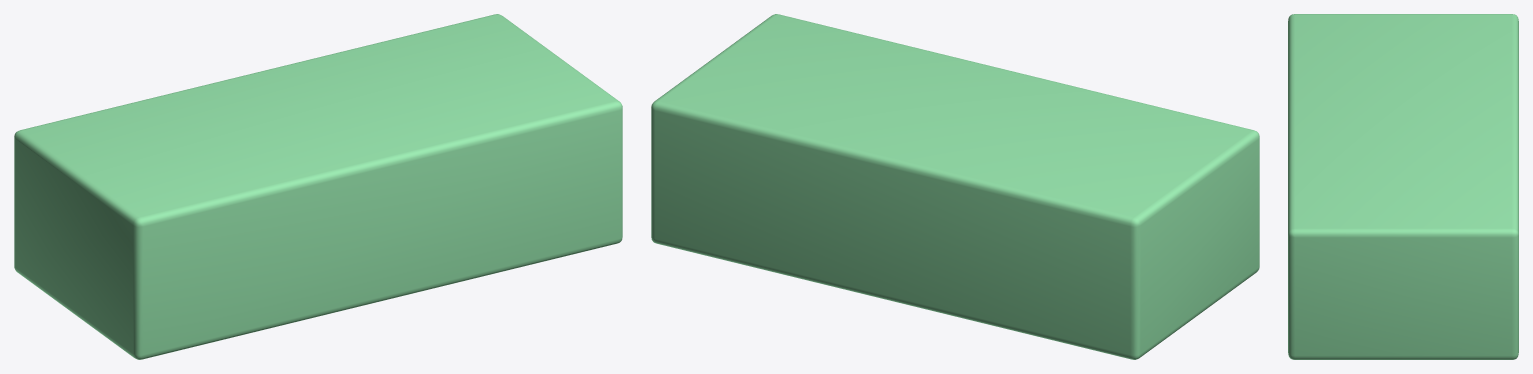
File: Brick.FBX
The picture shows the model from 3 angles, left to right: view 1: azimuth 30°, elevation 25°; view 2: azimuth 150°, elevation 25°; view 3: azimuth 270°, elevation 25°; orthographic projection. The views are drawn at different scales.
Parts seen in each view (by area): view 1: Brick; view 2: Brick; view 3: Brick.
Boxes of the visible parts, box(x1,y1,x2,y2) form: Brick: box(14, 14, 622, 359); Brick: box(651, 14, 1259, 359); Brick: box(1288, 14, 1518, 359).
Size of the model in its own units: 18 by 5 by 8.
